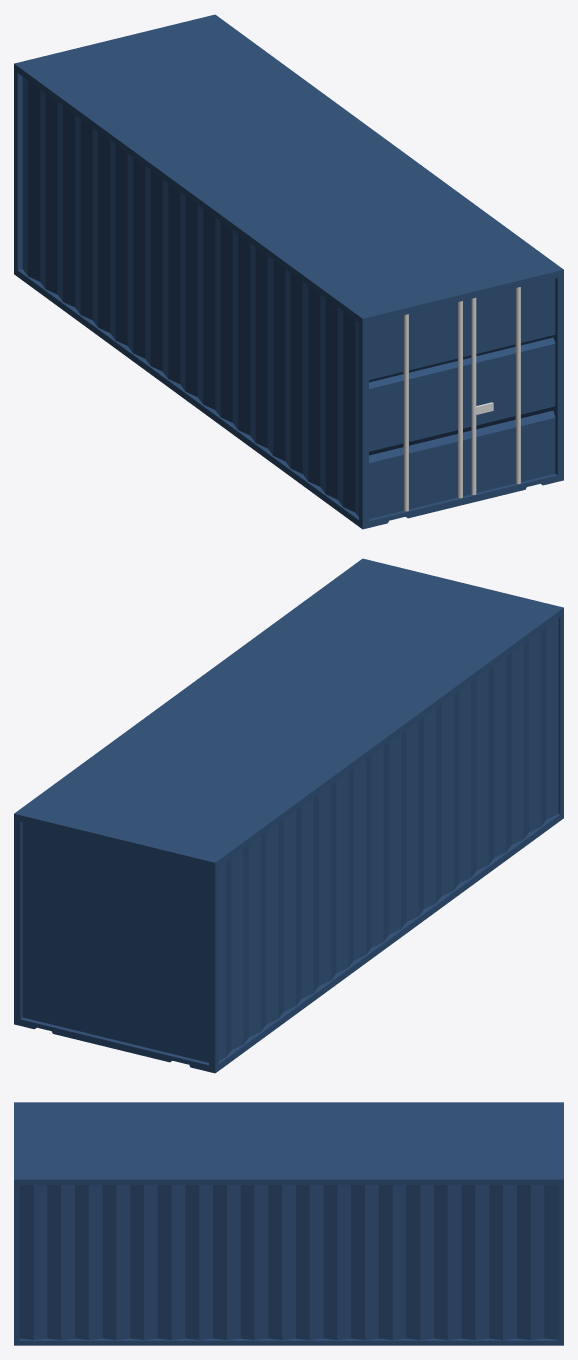
Rendered from container.fbx.
The picture shows the model from 3 angles, top to bottom: view 1: azimuth 30°, elevation 25°; view 2: azimuth 150°, elevation 25°; view 3: azimuth 270°, elevation 25°; orthographic projection. The views are drawn at different scales.
Visible parts, largest first — view 1: Container, Cylinder.001, Cylinder.003, Cylinder.002, Cylinder; view 2: Container; view 3: Container.
Boxes of the visible parts, x1=… form: Container: x1=14, y1=14, x2=563, y2=529; Cylinder.001: x1=471, y1=298, x2=476, y2=494; Cylinder.003: x1=403, y1=314, x2=408, y2=511; Cylinder.002: x1=515, y1=287, x2=520, y2=483; Cylinder: x1=458, y1=301, x2=462, y2=498; Container: x1=14, y1=558, x2=563, y2=1073; Container: x1=14, y1=1102, x2=563, y2=1345.
Size of the model in its own units: 320 by 320 by 960.
